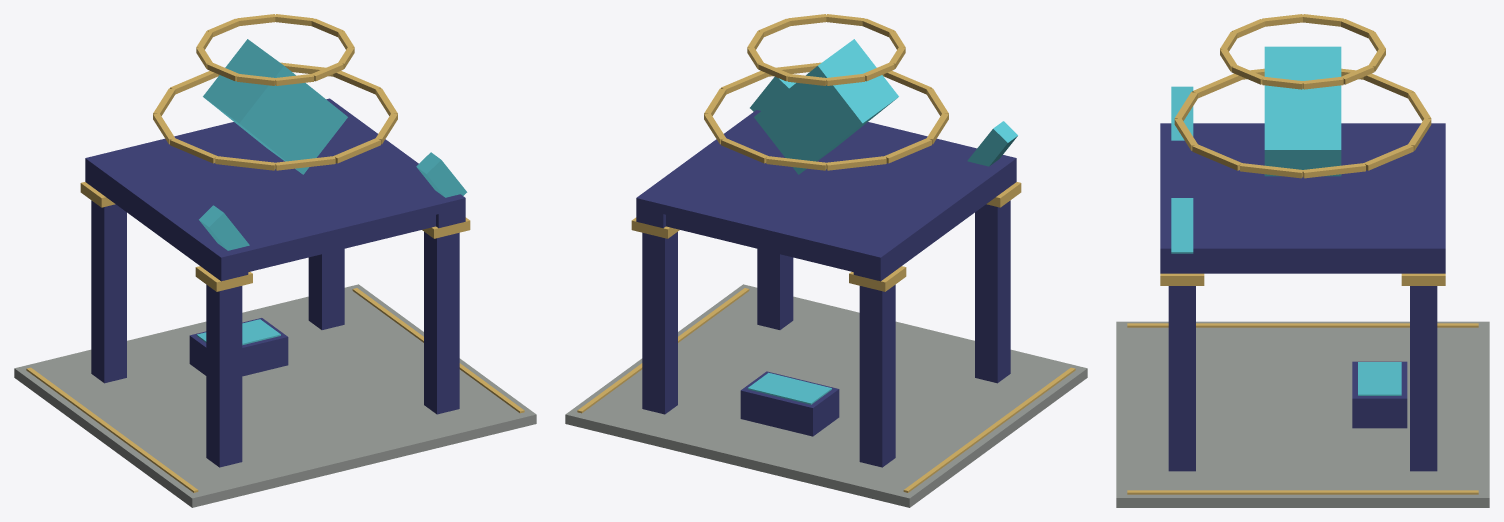
File: astralis_observatory.glb
The picture shows the model from 3 angles, left to right: view 1: azimuth 30°, elevation 25°; view 2: azimuth 150°, elevation 25°; view 3: azimuth 270°, elevation 25°; orthographic projection. The views are drawn at different scales.
Parts seen in each view (by area): view 1: astralis_observatory; view 2: astralis_observatory; view 3: astralis_observatory.
Boxes of the visible parts, box(x1,y1,x2,y2) form: astralis_observatory: box(14, 14, 536, 507); astralis_observatory: box(565, 14, 1087, 507); astralis_observatory: box(1116, 14, 1489, 507).
Size of the model in its own units: 38 by 37.28 by 34.
